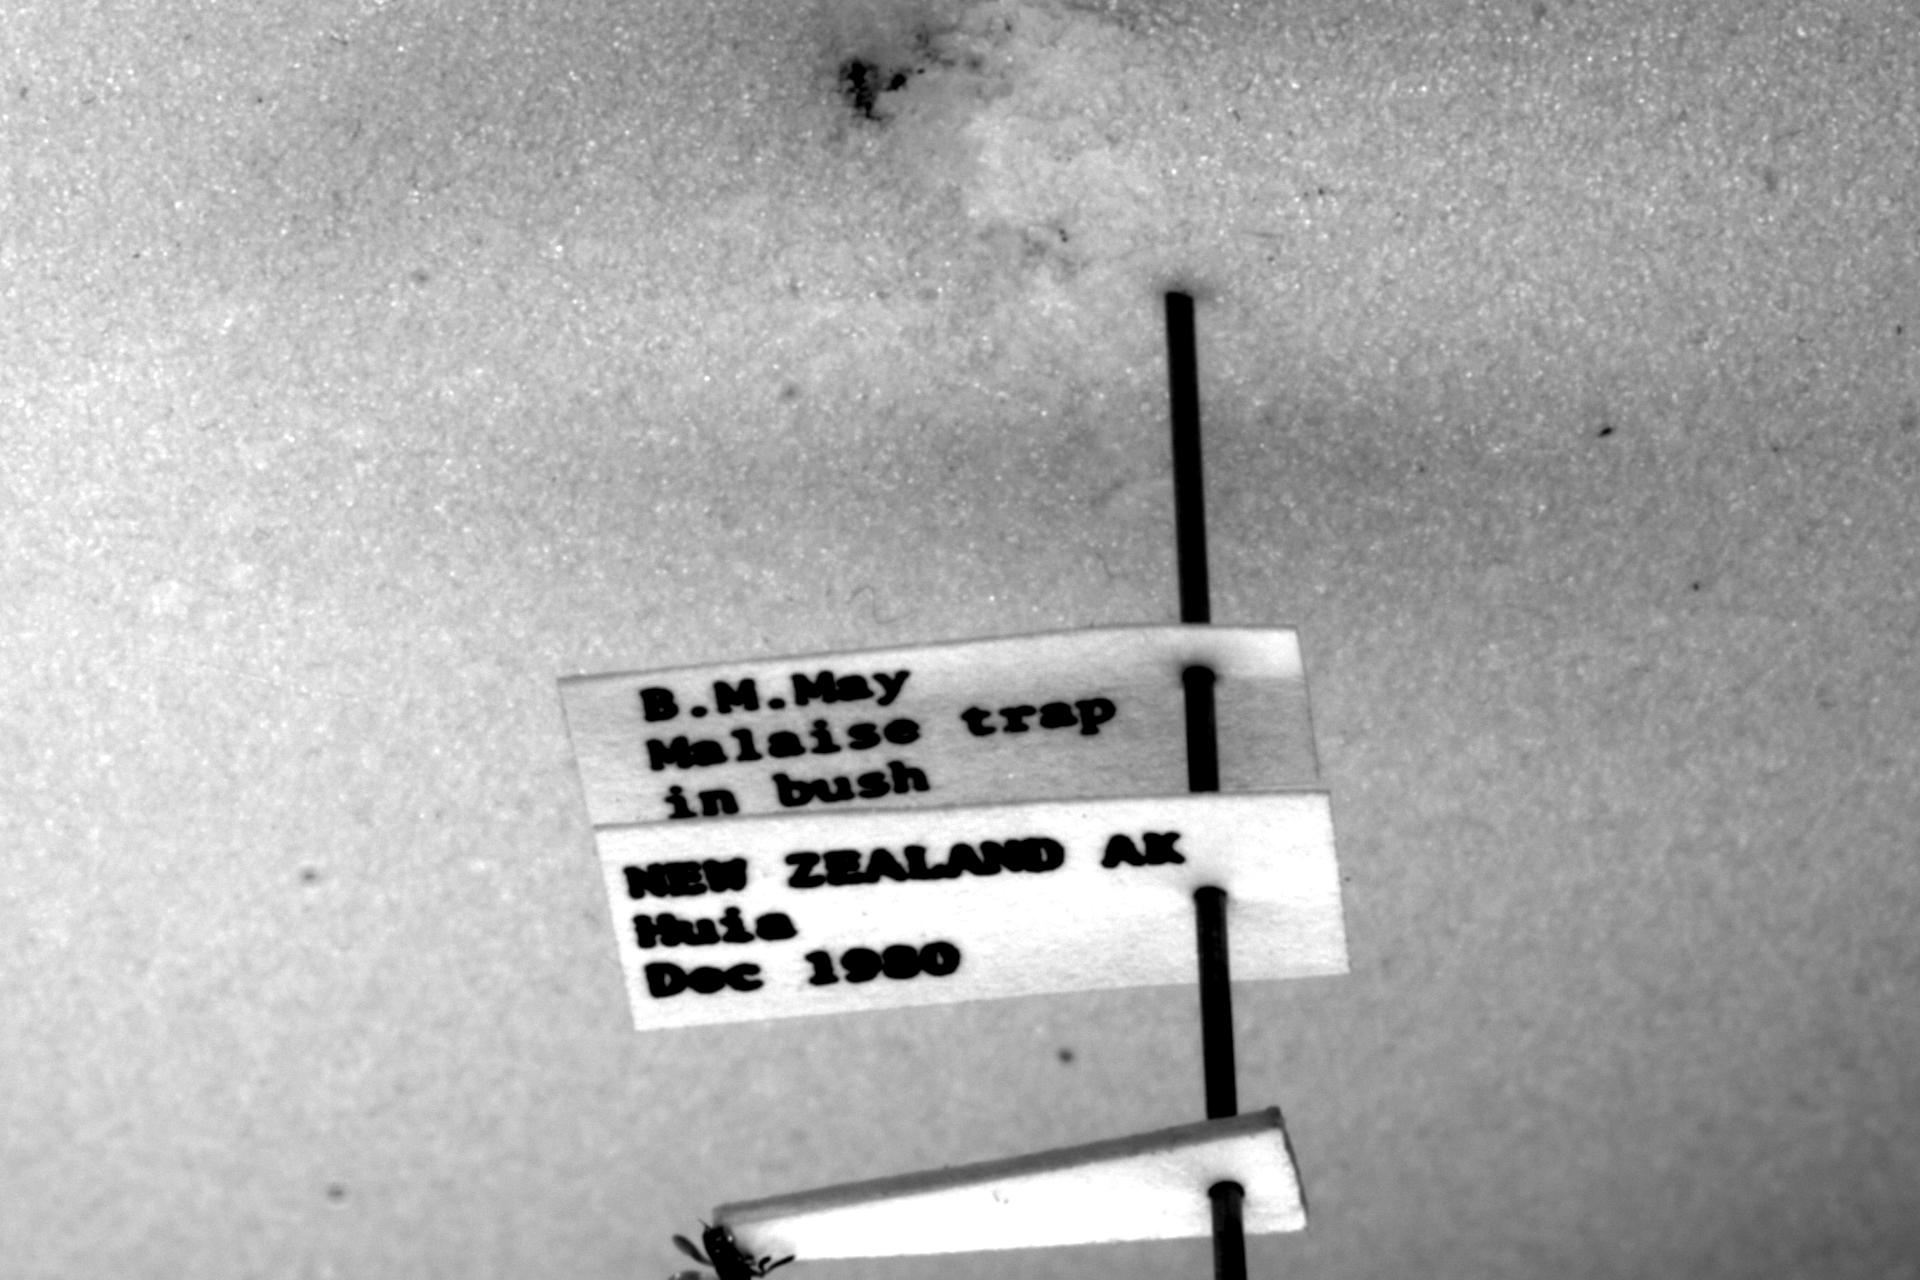typed_label: (596, 791, 1350, 1031), (559, 623, 1320, 826)
